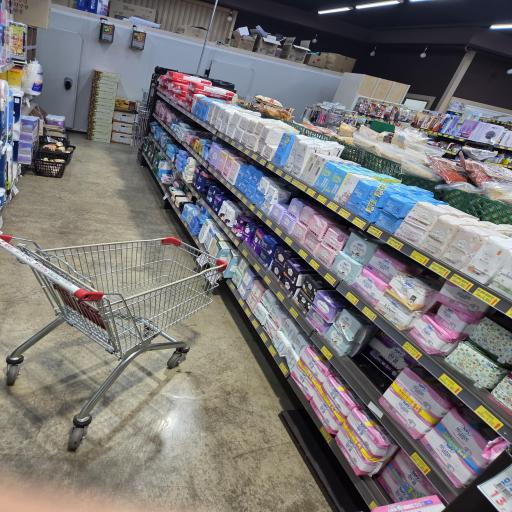empty_cart: (0, 231, 231, 453)
